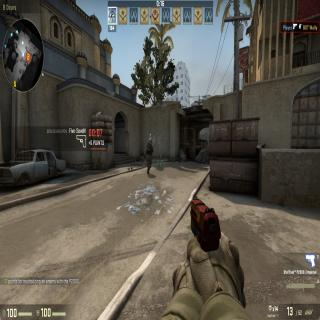CT-Body: (145, 137, 153, 174)
CT-Head: (148, 137, 153, 143)
